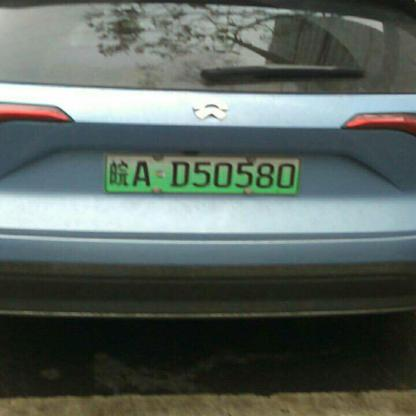lp: (105, 155, 299, 193)
